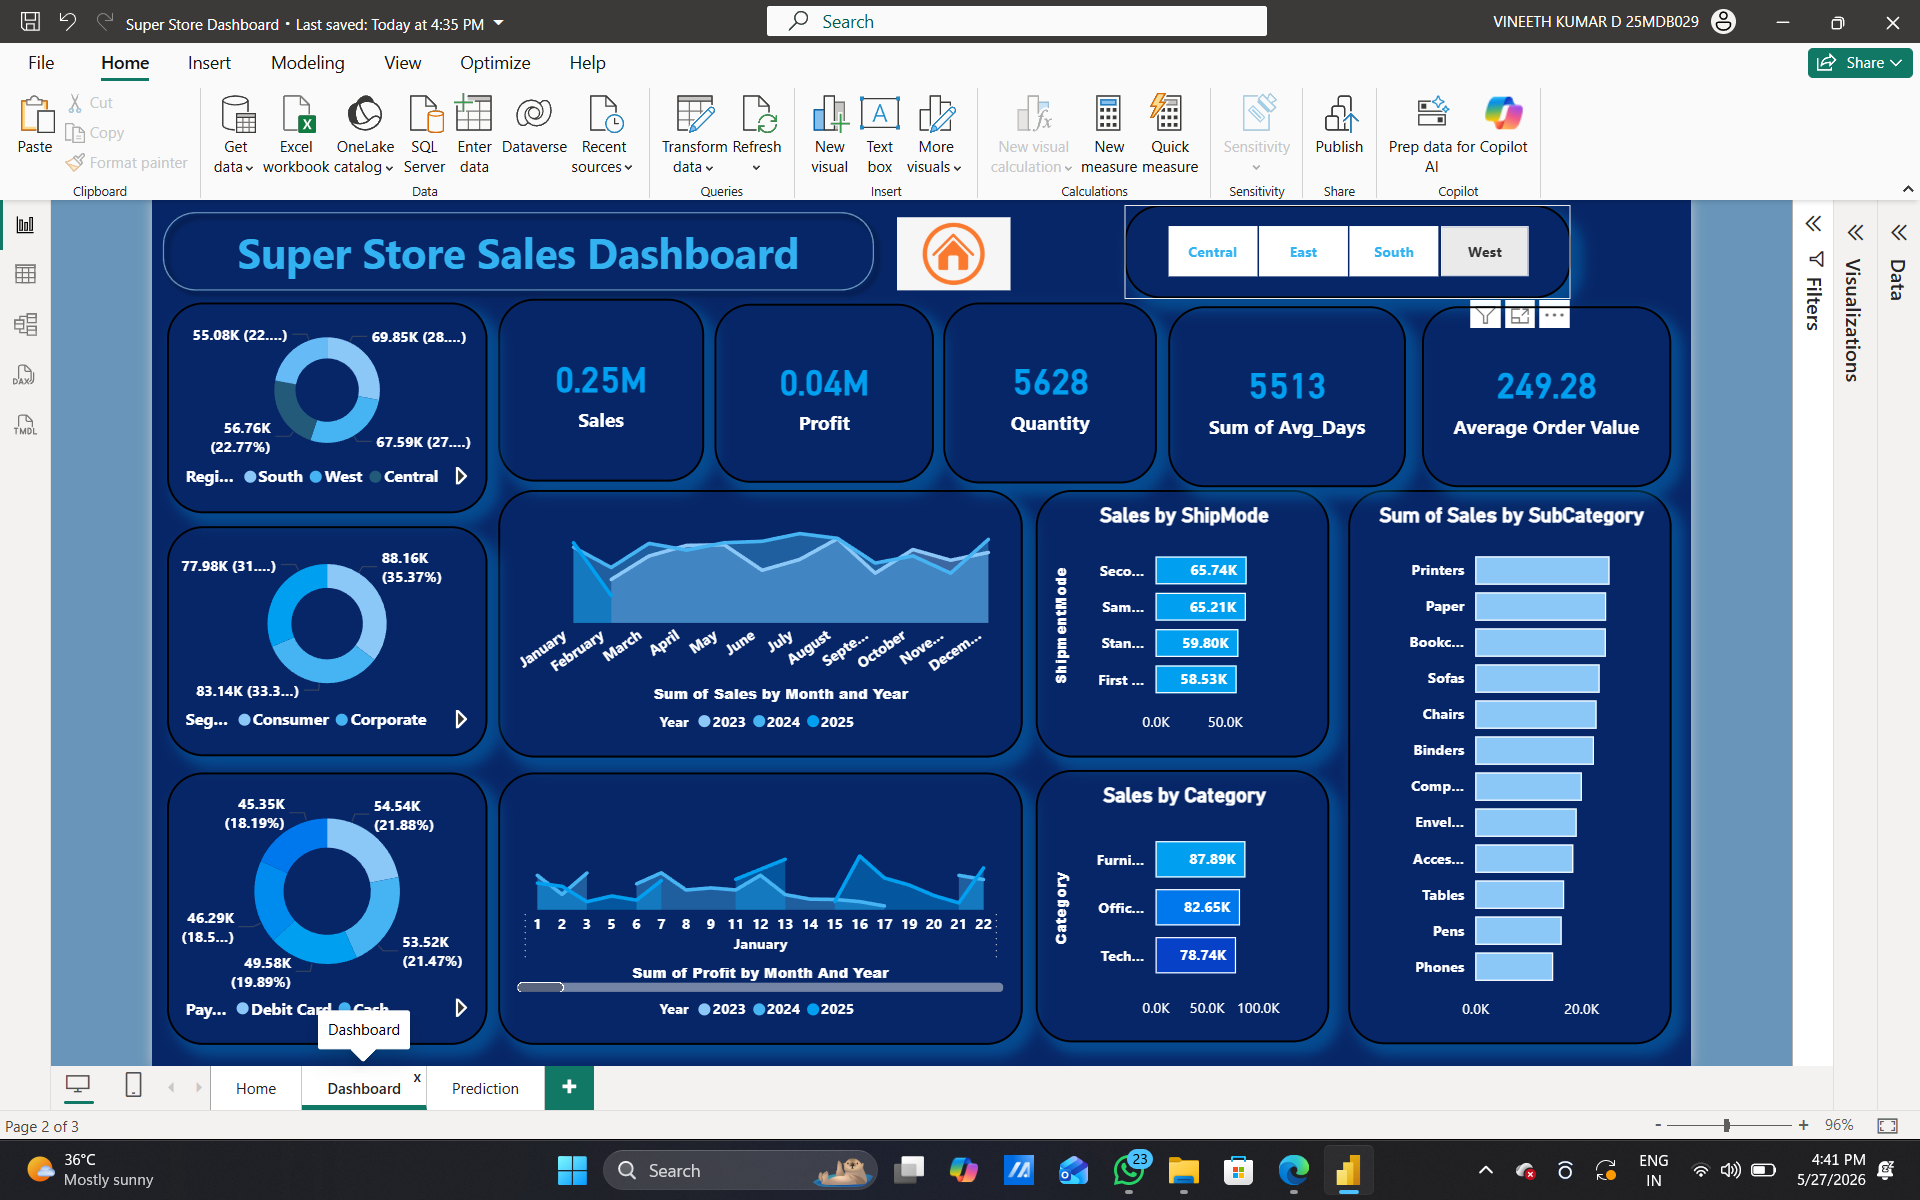

The page's visual inventory and layout, read from the dashboard file:
{"tool":"powerbi","page":{"name":"Dashboard","canvas":[1280,720],"ordinal":1},"visuals":[{"type":"card","fields":{"Values":["Sum(Task_superstore_sales.Sales)"]},"box":[288.4,82.6,170.9,152.3],"z":0},{"type":"card","fields":{"Values":["Sum(Task_superstore_sales.Profit)"]},"box":[467.4,86,182.6,148.8],"z":1000},{"type":"card","fields":{"Values":["Sum(Task_superstore_sales.Quantity)"]},"box":[658.1,84.9,177.9,150],"z":2000},{"type":"shape","box":[0,1.2,609.3,83.2],"z":3000},{"type":"areaChart","fields":{"Category":["Task_superstore_sales.OrderDate.Variation.Date Hierarchy.Month","Task_superstore_sales.OrderDate.Variation.Date Hierarchy.Day"],"Y":["Sum(Task_superstore_sales.Sales)"],"Series":["Task_superstore_sales.OrderDate.Variation.Date Hierarchy.Year"]},"box":[288.4,240.7,436,222.1],"z":4000},{"type":"donutChart","fields":{"Category":["Task_superstore_sales.Region"],"Y":["Sum(Task_superstore_sales.Sales)"]},"box":[12.5,85,266.2,175],"z":5000},{"type":"donutChart","fields":{"Y":["Sum(Task_superstore_sales.Sales)"],"Category":["Task_superstore_sales.Segment"]},"box":[12.5,271.2,266.2,191.2],"z":6000},{"type":"donutChart","fields":{"Y":["Sum(Task_superstore_sales.Sales)"],"Category":["Task_superstore_sales.PaymentMode"]},"box":[12.8,475.6,266.3,226.7],"z":7000},{"type":"areaChart","fields":{"Y":["Sum(Task_superstore_sales.Profit)"],"Category":["Task_superstore_sales.OrderDate.Variation.Date Hierarchy.Month","Task_superstore_sales.OrderDate.Variation.Date Hierarchy.Day"],"Series":["Task_superstore_sales.OrderDate.Variation.Date Hierarchy.Year"]},"box":[288.4,475.6,436,226.7],"z":8000},{"type":"barChart","title":" Sales by ShipMode","fields":{"Y":["Sum(Task_superstore_sales.Sales)"],"Category":["Task_superstore_sales.ShipmentMode"]},"box":[734.9,240.7,244.2,222.1],"z":9000},{"type":"barChart","title":" Sales by Category","fields":{"Category":["Task_superstore_sales.Category"],"Y":["Sum(Task_superstore_sales.Sales)"]},"box":[734.9,474.4,244.2,226.7],"z":10000},{"type":"barChart","fields":{"Category":["Task_superstore_sales.SubCategory"],"Y":["Sum(Task_superstore_sales.Sales)"]},"box":[994.2,240.7,268.6,460.5],"z":11000},{"type":"image","box":[619.1,2.8,94.6,83.5],"z":12000},{"type":"slicer","fields":{"Values":["Task_superstore_sales.Region"]},"box":[808.1,4.7,370.9,77.9],"z":13000},{"type":"card","fields":{"Values":["Sum(Task_superstore_sales.Avg_Days)"]},"box":[845.4,88.4,197.7,150],"z":14000},{"type":"card","fields":{"Values":["Task_superstore_sales.Average Order Value"]},"box":[1055.8,88.4,207,150],"z":14001}]}

Visuals, with their boxes on the page's 1280x720 design canvas (x1, y1, x2, y2). These are canvas units, not pixel positions in the 1920x1200 screenshot, which may show the page scaled, cropped or inside an application window:
card - Sum(Task_superstore_sales.Sales): 288/83/459/235
card - Sum(Task_superstore_sales.Profit): 467/86/650/235
card - Sum(Task_superstore_sales.Quantity): 658/85/836/235
shape: 0/1/609/84
areaChart - Task_superstore_sales.OrderDate.Variation.Date Hierarchy.Month x Task_superstore_sales.OrderDate.Variation.Date Hierarchy.Day: 288/241/724/463
donutChart - Task_superstore_sales.Region x Sum(Task_superstore_sales.Sales): 12/85/279/260
donutChart - Sum(Task_superstore_sales.Sales) x Task_superstore_sales.Segment: 12/271/279/462
donutChart - Sum(Task_superstore_sales.Sales) x Task_superstore_sales.PaymentMode: 13/476/279/702
areaChart - Sum(Task_superstore_sales.Profit) x Task_superstore_sales.OrderDate.Variation.Date Hierarchy.Month: 288/476/724/702
" Sales by ShipMode" barChart: 735/241/979/463
" Sales by Category" barChart: 735/474/979/701
barChart - Task_superstore_sales.SubCategory x Sum(Task_superstore_sales.Sales): 994/241/1263/701
image: 619/3/714/86
slicer - Task_superstore_sales.Region: 808/5/1179/83
card - Sum(Task_superstore_sales.Avg_Days): 845/88/1043/238
card - Task_superstore_sales.Average Order Value: 1056/88/1263/238
